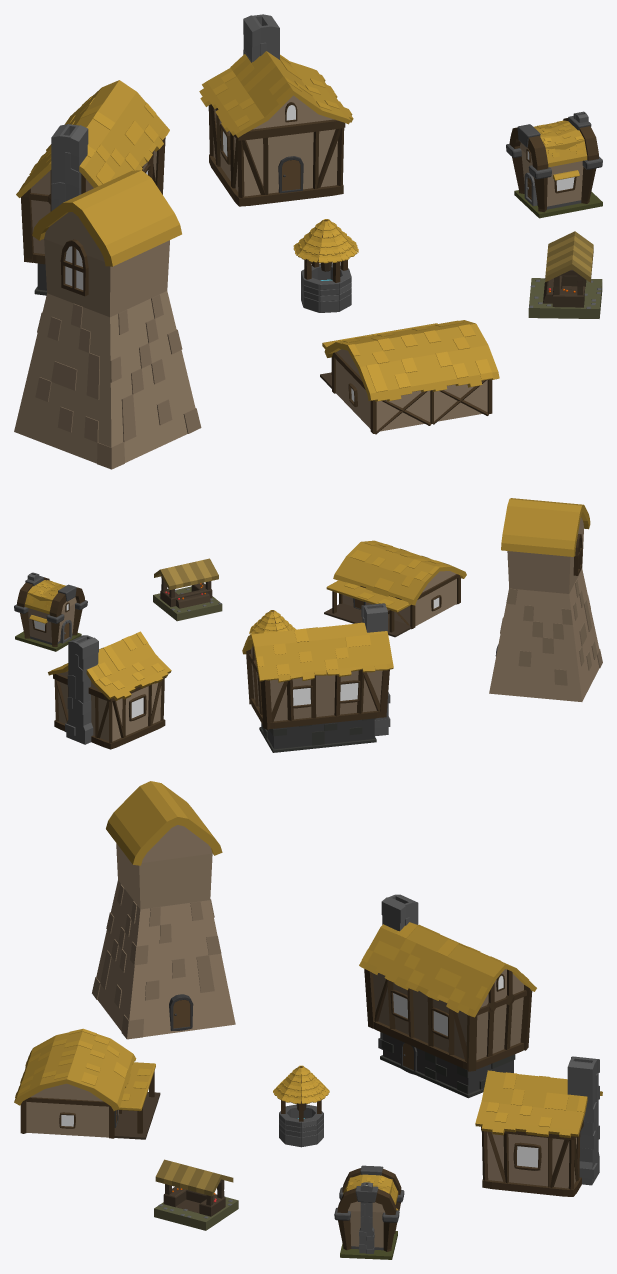
The model's file is Midfair.glb.
3 views of the same model, one above another, from view 1: azimuth 30°, elevation 25°; view 2: azimuth 150°, elevation 25°; view 3: azimuth 270°, elevation 25° (orthographic). The views are drawn at different scales.
Visible parts, largest first — view 1: Windmill.001, House Middle.013, Small Building.003, Big House.034, House .019, Market Stall.012, Well.006; view 2: Windmill.001, Big House.034, House Middle.013, Small Building.003, House .019, Market Stall.012, Well.006; view 3: Windmill.001, Big House.034, House Middle.013, Small Building.003, House .019, Market Stall.012, Well.006.
Boxes of the visible parts, x1,y1,x2,y2 form: Windmill.001: (14, 170, 201, 469); House Middle.013: (199, 14, 353, 206); Small Building.003: (320, 320, 499, 434); Big House.034: (16, 80, 169, 295); House .019: (506, 111, 602, 218); Market Stall.012: (528, 231, 602, 318); Well.006: (293, 219, 358, 312); Windmill.001: (489, 498, 602, 701); Big House.034: (242, 603, 393, 752); House Middle.013: (48, 631, 171, 749); Small Building.003: (324, 540, 466, 637); House .019: (14, 572, 87, 651); Market Stall.012: (153, 558, 222, 621); Well.006: (249, 610, 296, 634); Windmill.001: (92, 781, 235, 1039); Big House.034: (359, 894, 536, 1098); House Middle.013: (475, 1056, 602, 1196); Small Building.003: (14, 1028, 160, 1139); House .019: (334, 1165, 404, 1259); Market Stall.012: (154, 1159, 238, 1230); Well.006: (273, 1065, 329, 1147).
Size of what is drawn, in the model's own units: 3.31 by 1.16 by 2.9.
